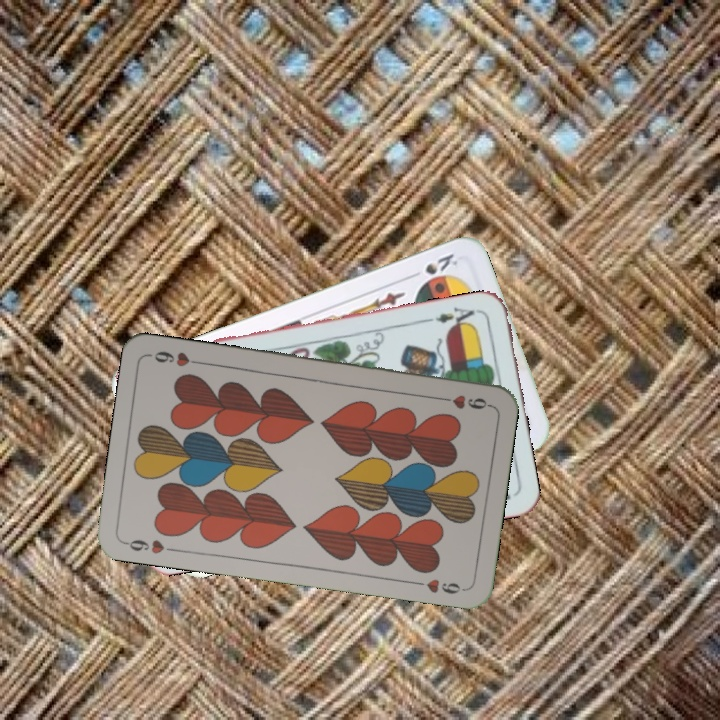EA: (424, 302, 483, 331)
H9: (433, 390, 492, 412), (120, 535, 179, 557)
SK: (405, 249, 461, 281)
